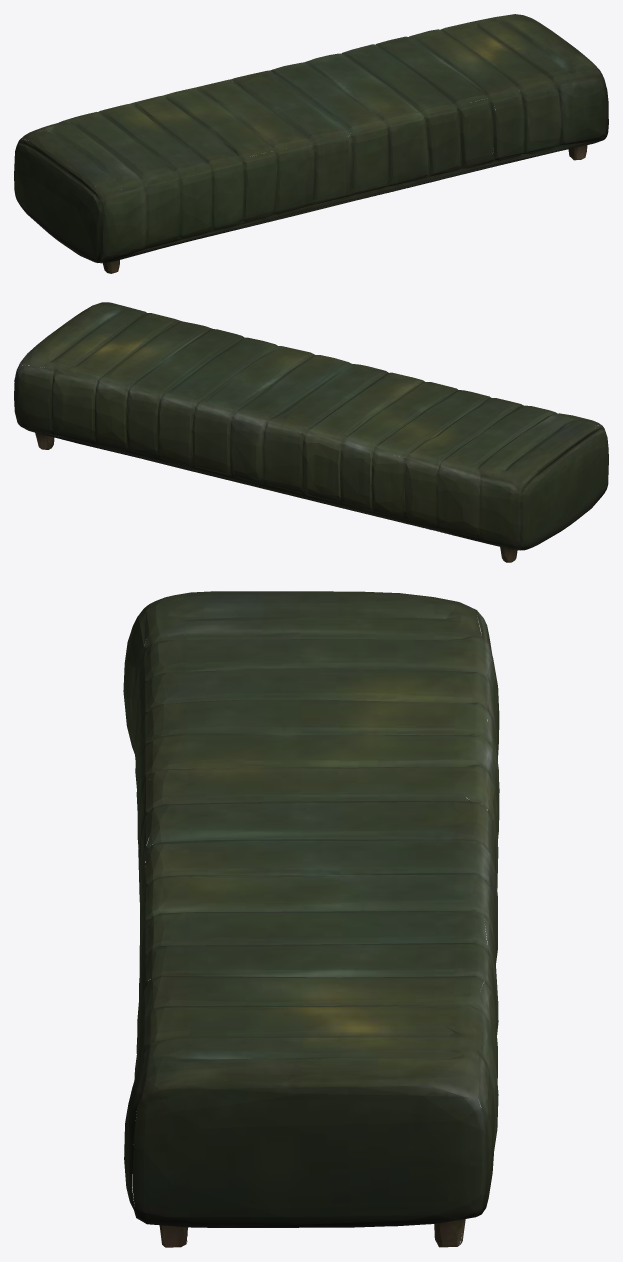
File: m-pouf-vert.glb
3 renders of one model, top to bottom at view 1: azimuth 30°, elevation 25°; view 2: azimuth 150°, elevation 25°; view 3: azimuth 270°, elevation 25°, orthographic. The views are drawn at different scales.
Visible parts, largest first — view 1: geometry_0; view 2: geometry_0; view 3: geometry_0.
Boxes of the visible parts, x1,y1,x2,y2 form: geometry_0: (14, 14, 608, 273); geometry_0: (14, 302, 608, 562); geometry_0: (123, 591, 499, 1247).
Bounding box in the file's own units: 0.9995 × 0.1735 × 0.317.
1 material, 1 textured.
